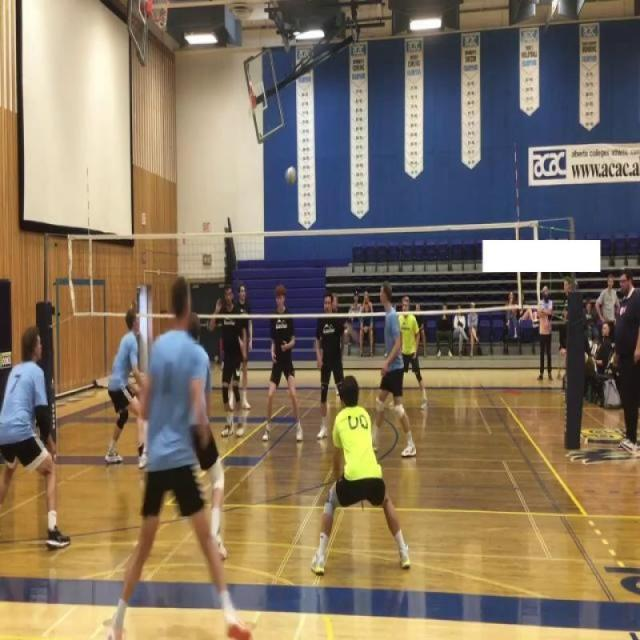volleyball: (284, 164, 298, 186)
